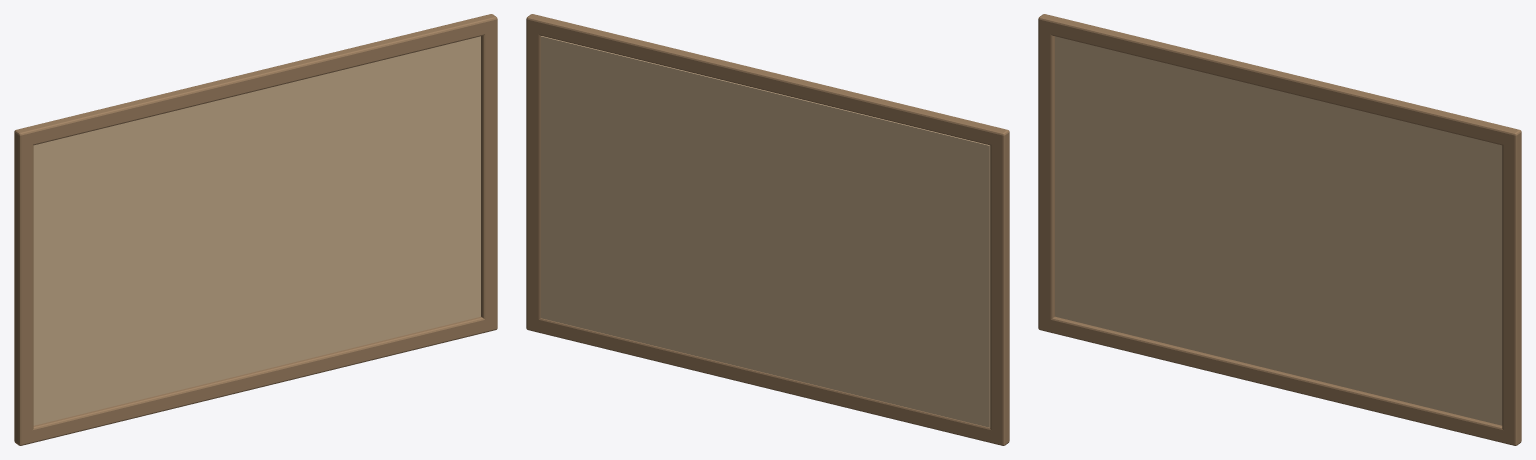
File: bulletin_board.glb
3 renders of one model, left to right at view 1: azimuth 30°, elevation 25°; view 2: azimuth 150°, elevation 25°; view 3: azimuth 330°, elevation 25°, orthographic.
Visible parts, largest first — view 1: Board; view 2: Board; view 3: Board.
Part boxes in pixels (<box>): Board: <box>14,14,497,445</box>; Board: <box>526,14,1009,445</box>; Board: <box>1038,14,1521,445</box>.
Size of the model in its own units: 1.6 by 1 by 0.035.
